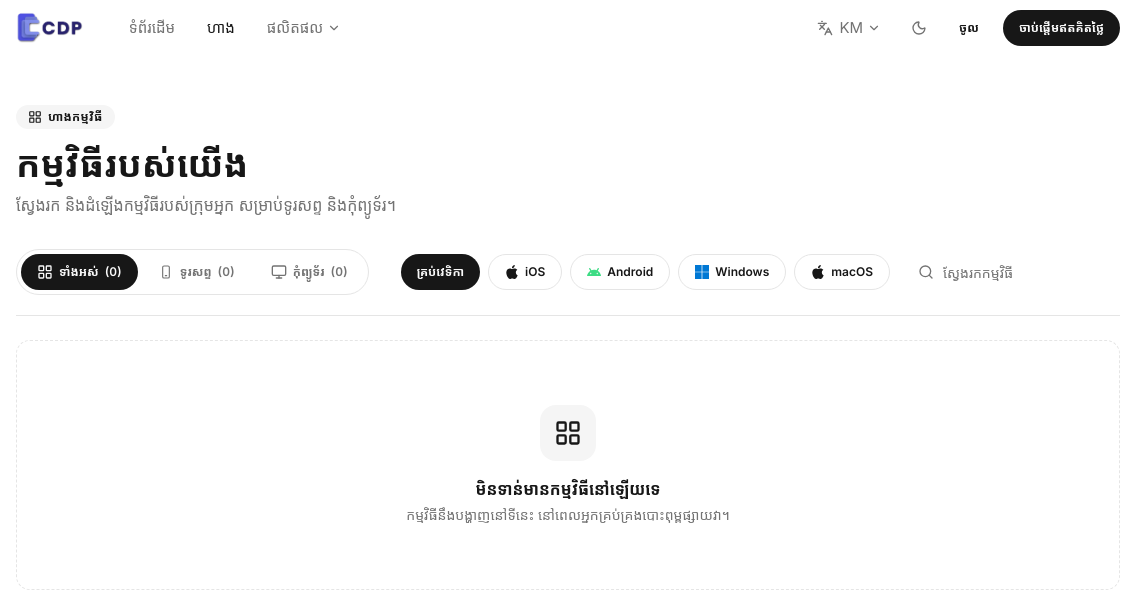
Test case: /store — translated in every locale › translates the empty and no-match states in km
Expected: the text "មិនទាន់មានកម្មវិធីនៅឡើយទេ" is shown, 476,477 -> 660,501
Expected: the text "កម្មវិធីនឹងបង្ហាញនៅទីនេះ នៅពេលអ្នកគ្រប់គ្រងបោះពុម្ពផ្សាយវា។" is shown, 406,505 -> 730,525
Click the tab "ទូរសព្ទ (0)" at (196, 272), box 142,254 -> 251,290
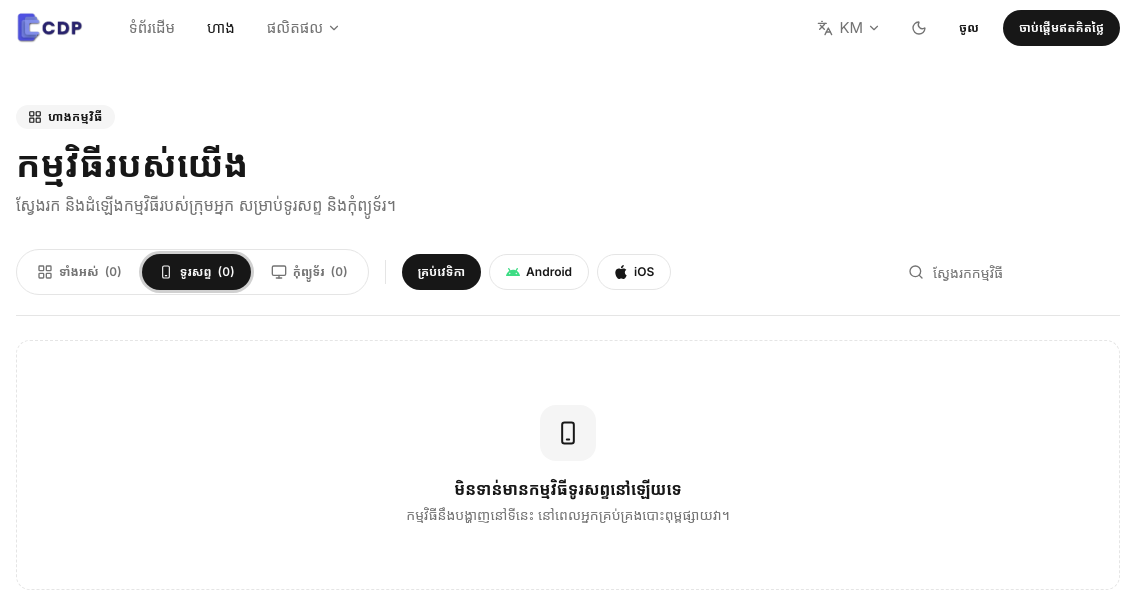
Expected: the text "មិនទាន់មានកម្មវិធីទូរសព្ទនៅឡើយទេ" is shown, 454,477 -> 682,501
Type "zzz" into the search field with placeholder "ស្វែងរកកម្មវិធី" at (1008, 272), box 896,252 -> 1120,292
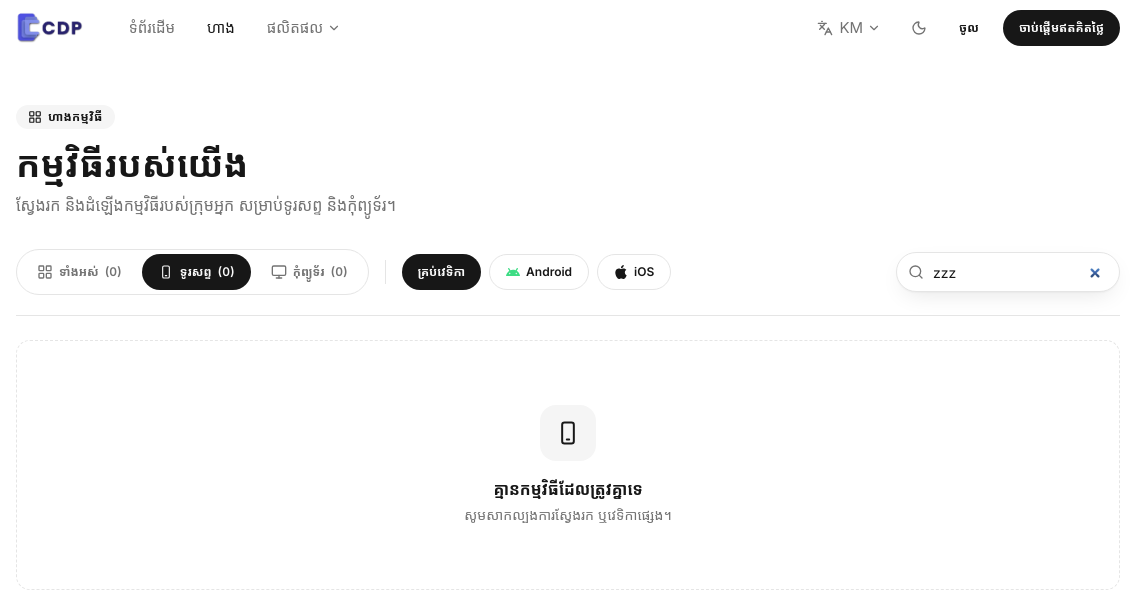
Expected: the text "គ្មានកម្មវិធីដែលត្រូវគ្នាទេ" is shown, 493,477 -> 643,501
Expected: the text "សូមសាកល្បងការស្វែងរក ឬវេទិកាផ្សេង។" is shown, 464,505 -> 672,525
